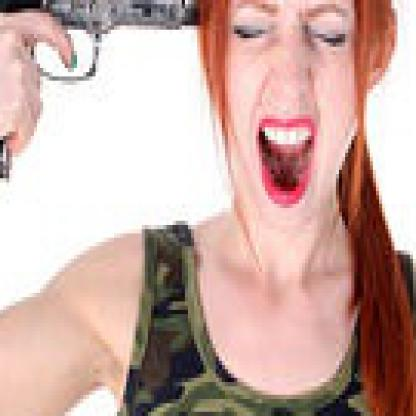gun: (0, 0, 204, 183)
